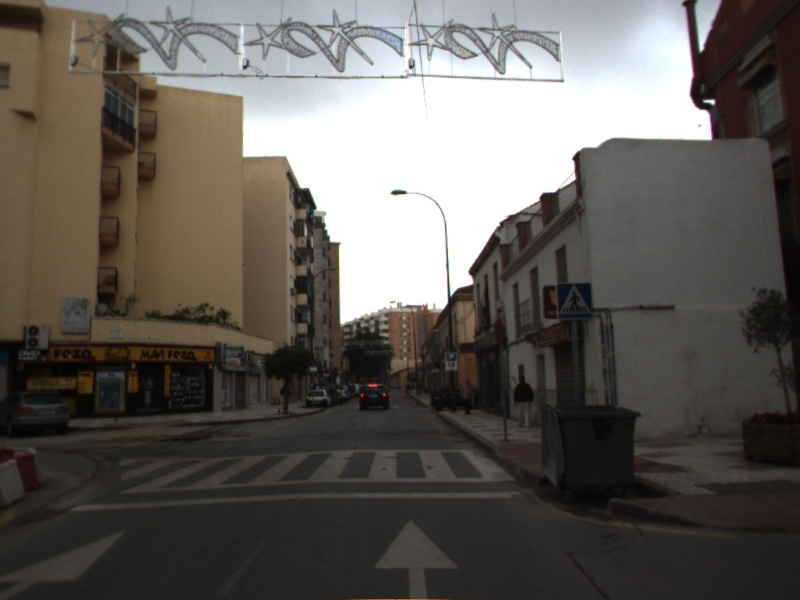STRAIGHT: (1, 527, 129, 600), (371, 517, 462, 600)
